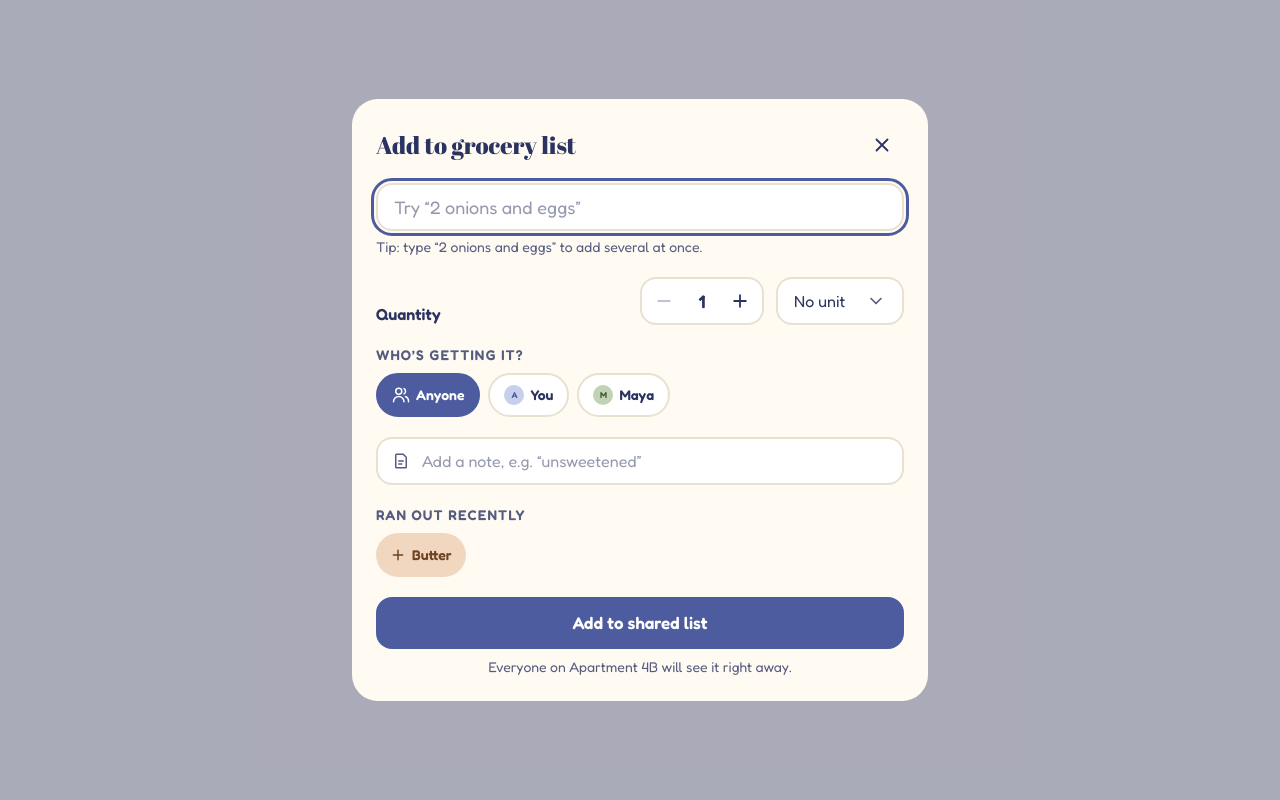
Test: AddItemSheet (SRS 6.7) › asks for a name
Click the button "Add to shared list".
click(640, 623)  # box [376, 597, 904, 649]
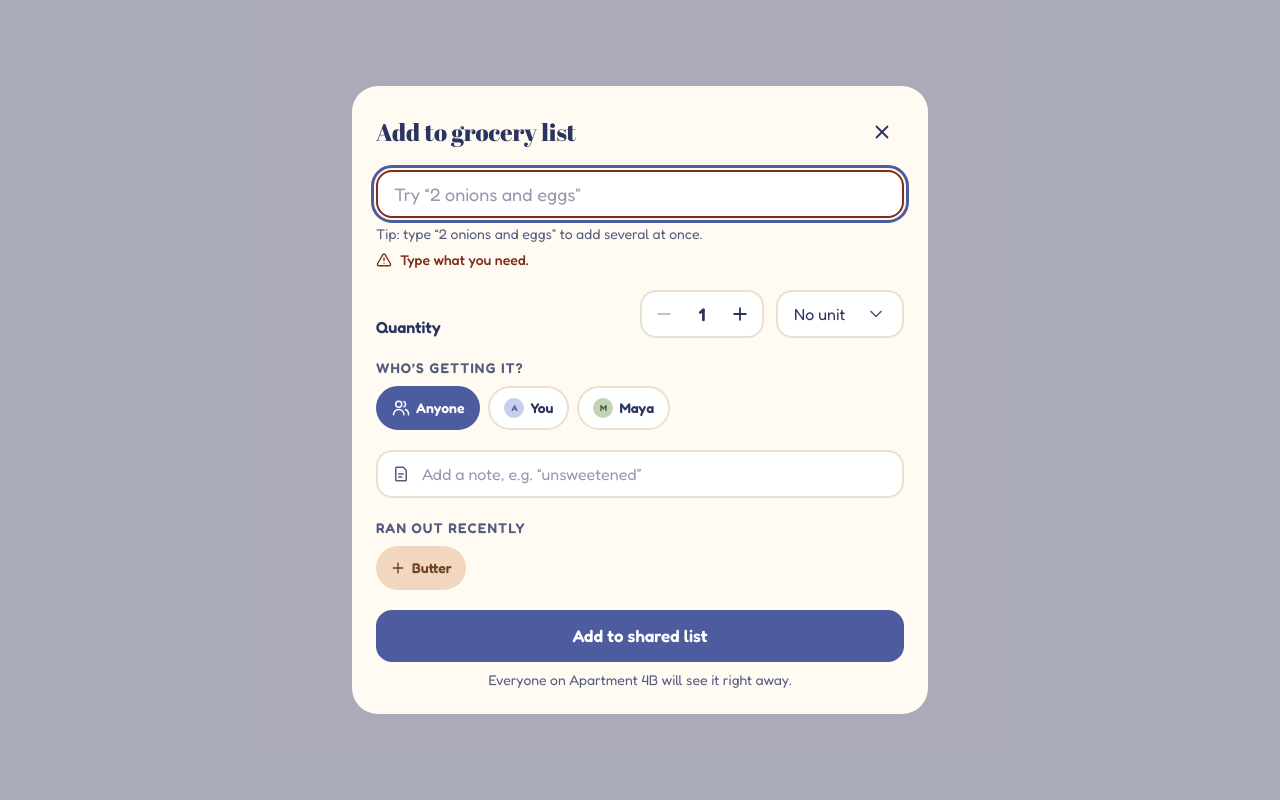
Result: the text "Type what you need." is shown at [376, 251, 529, 268]
